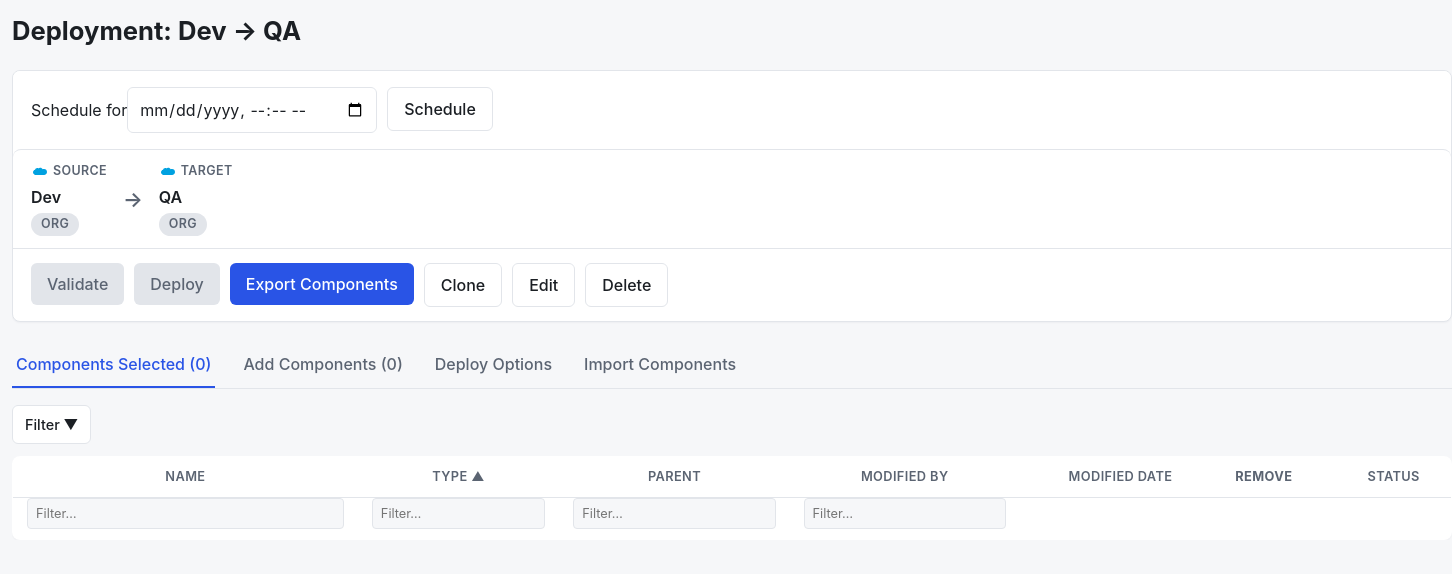
Test: DeploymentDetailPage — scheduling › schedules the draft with the chosen time, with no client-supplied runBy
Type "2026-09-01T09:00" into the field labelled "Schedule for".
click(252, 110); type("2026-09-01T09:00")  # box [127,87,377,133]
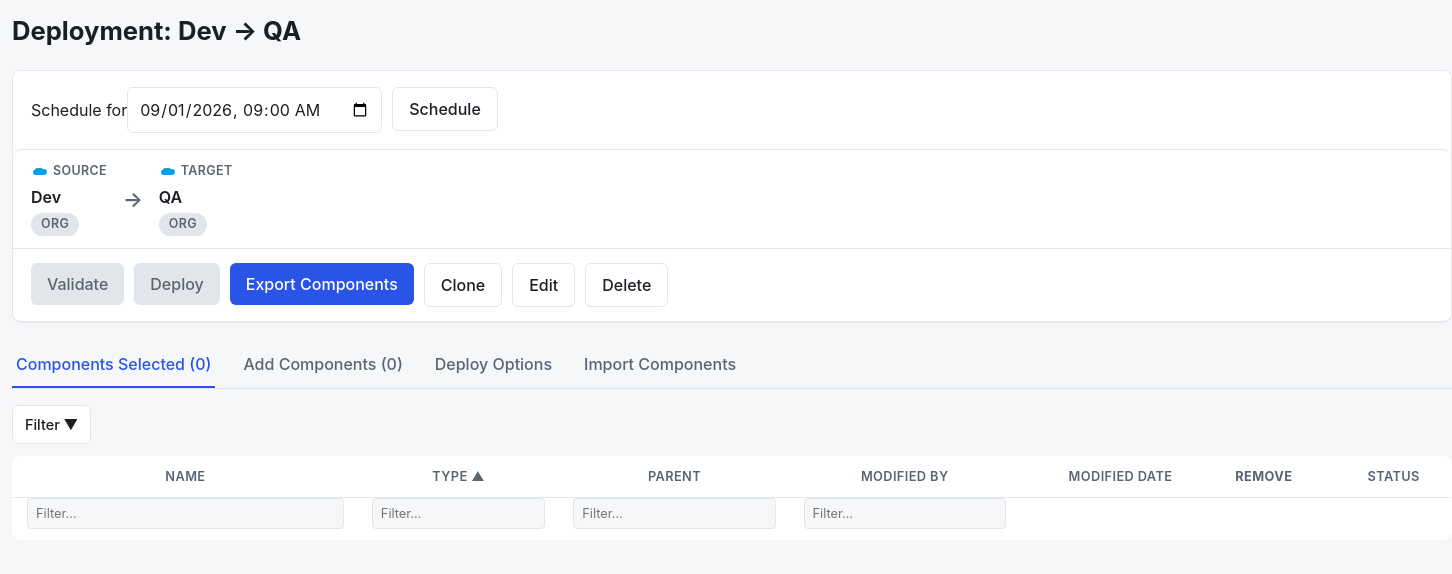
Click the button "Schedule".
click(445, 109)  # box [392,87,498,131]
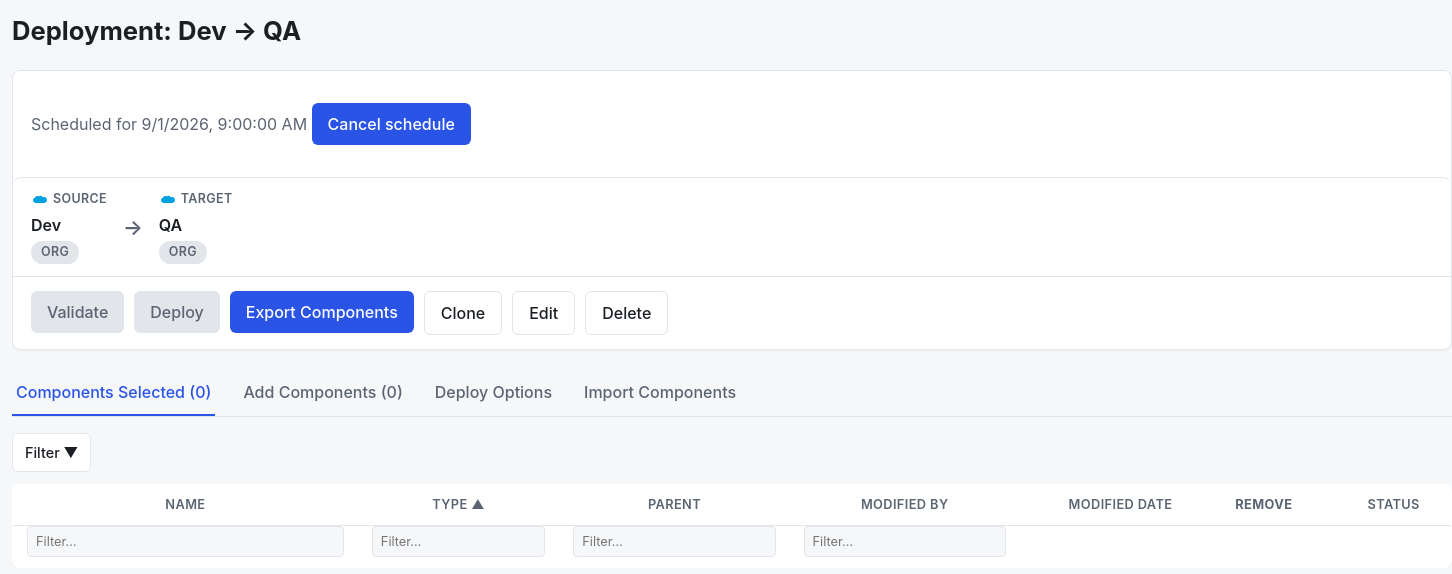
Expected: the text "Scheduled for 9/1/2026, 9:00:00 AM Cancel schedule" is shown, [31,103,471,145]
